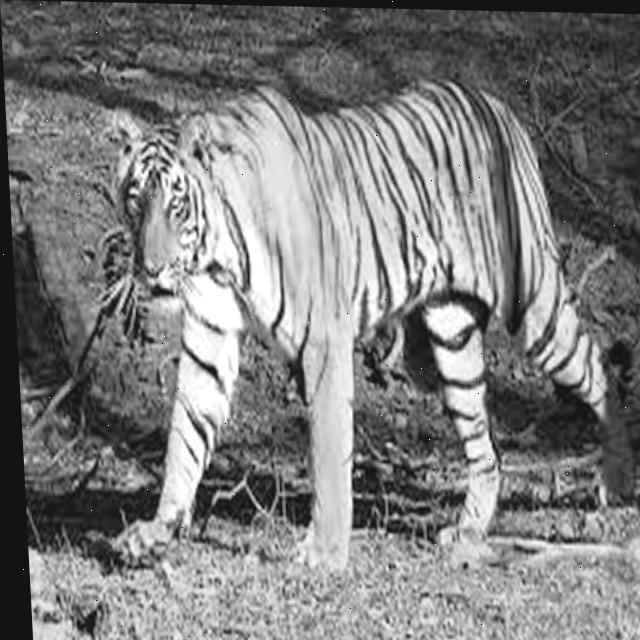Tiger: (77, 65, 640, 581)
